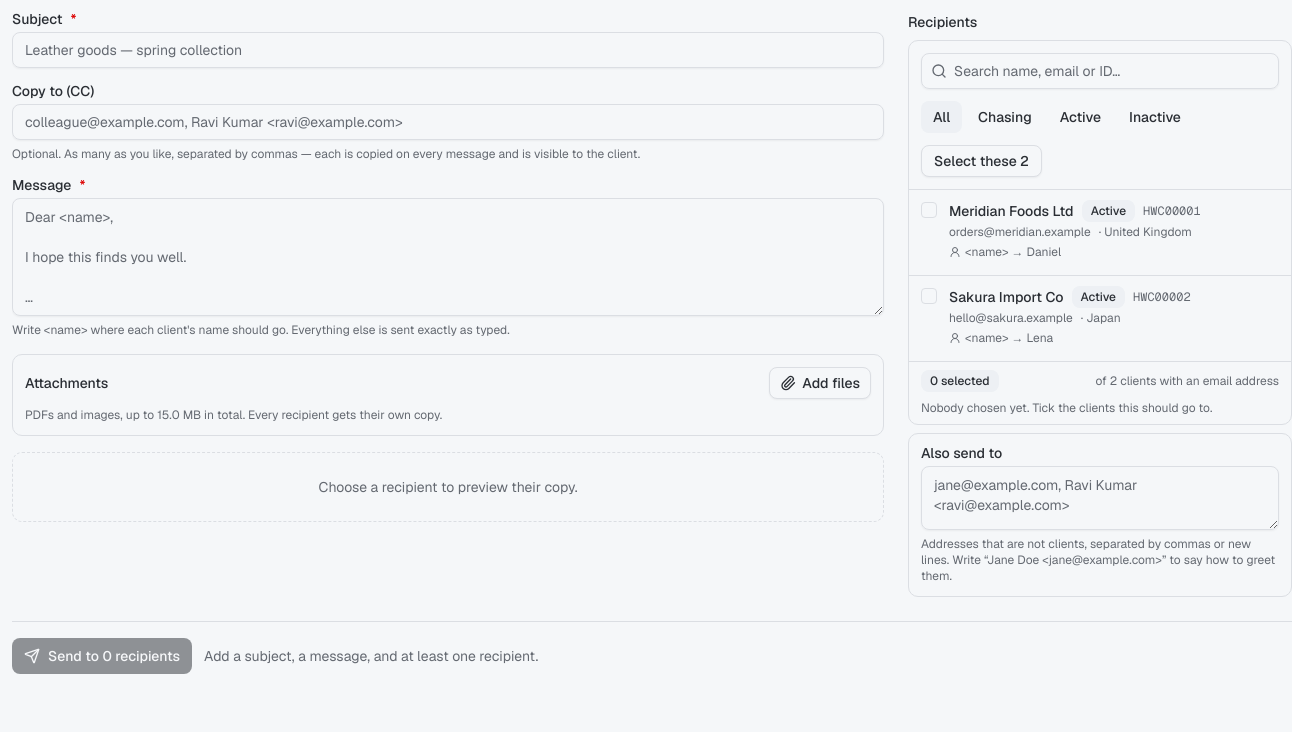
cc › spells out the total when several people are copied
In the field labelled "Subject *": (448,50) [12,32,884,68], type "Spring range"
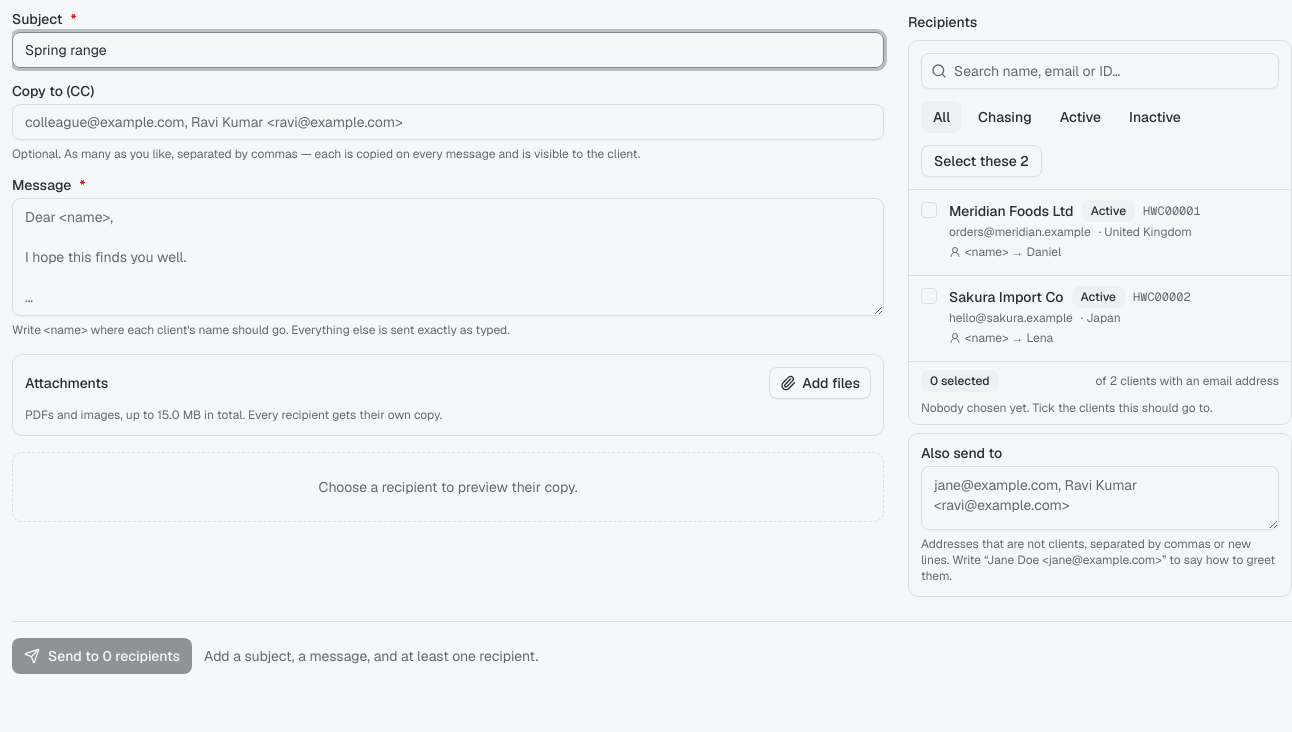
In the text box labelled "Message *": (448,257) [12,198,884,316], type "Dear <name>,"
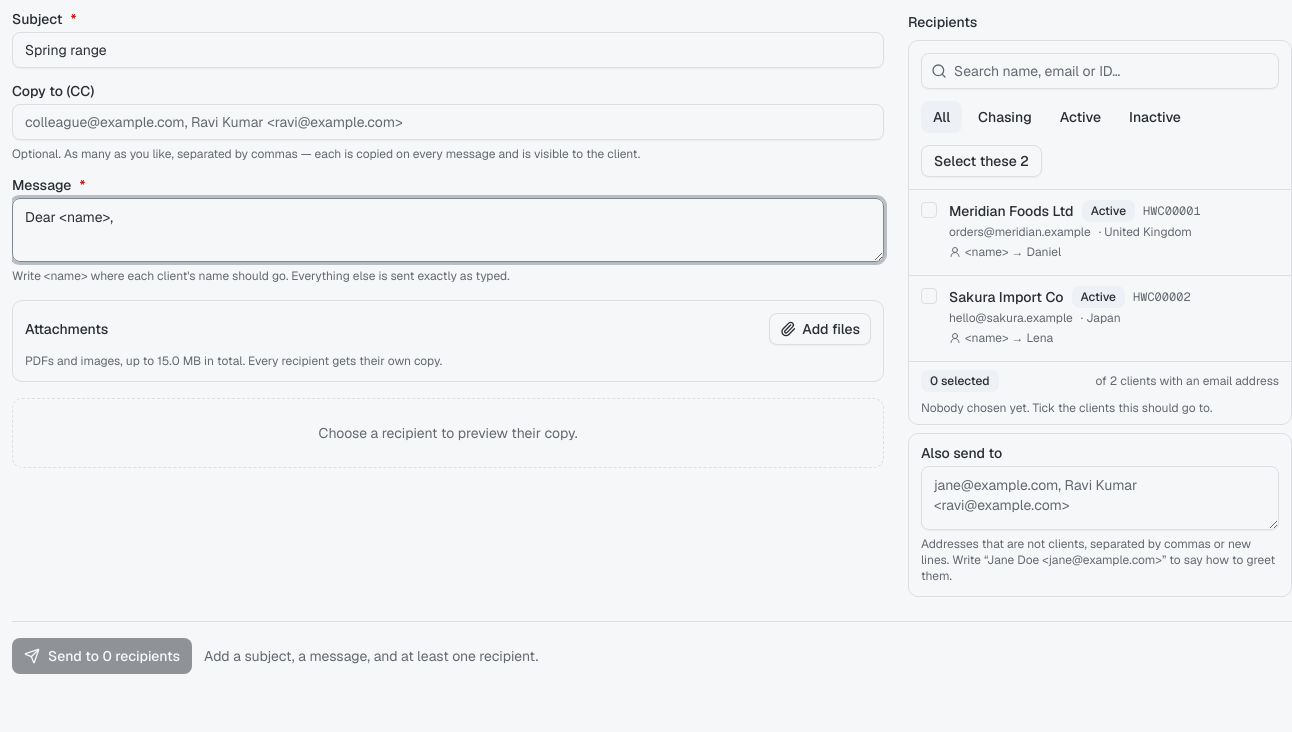
Click the checkbox named "Write to Meridian Foods Ltd": (929,210) [921,202,937,218]
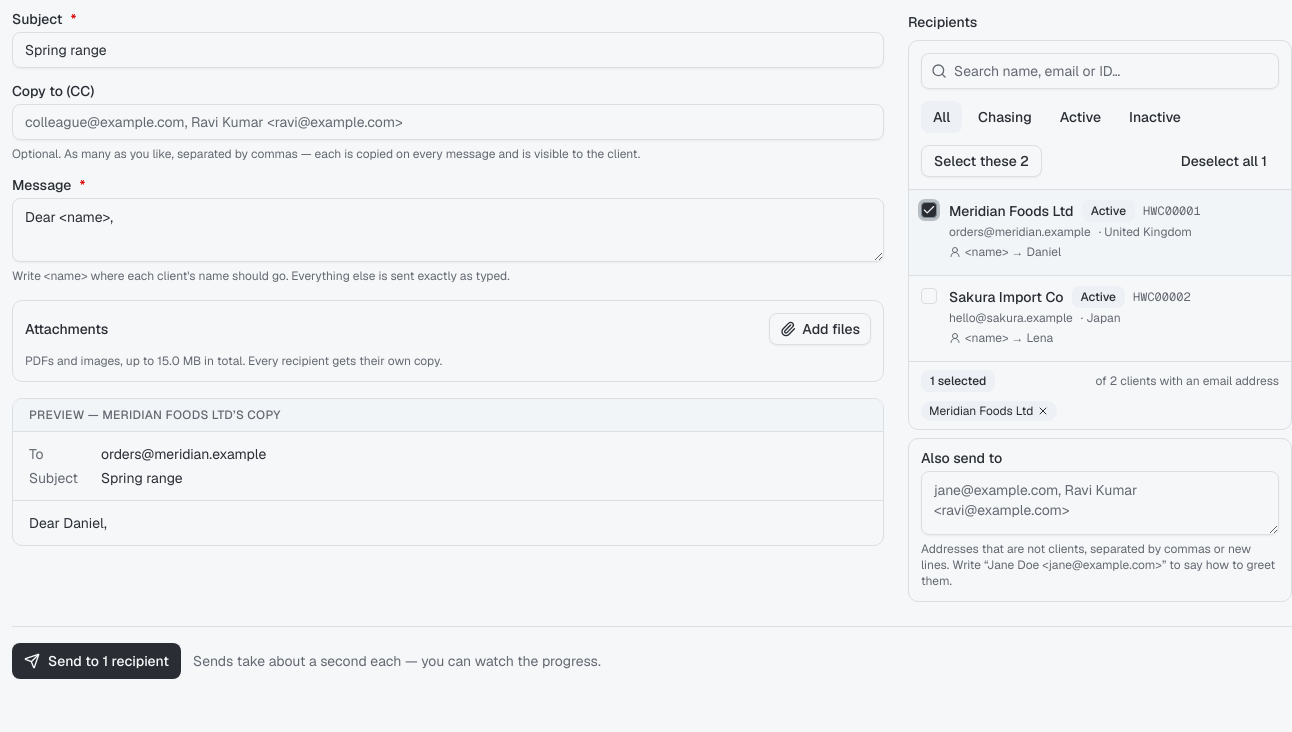
Click the checkbox named "Write to Sakura Import Co": (929,296) [921,288,937,304]
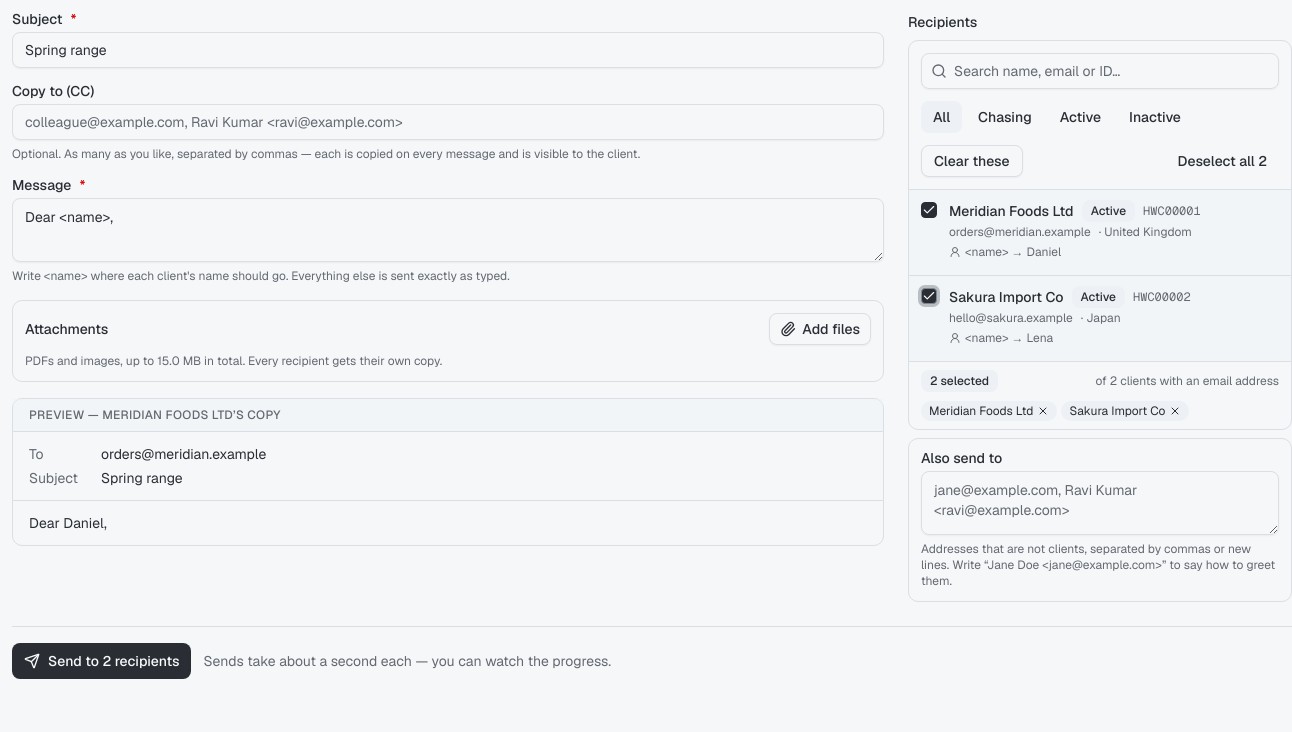
In the field labelled "Copy to (CC)": (448,122) [12,104,884,140], type "a@example.com, b@example.com"
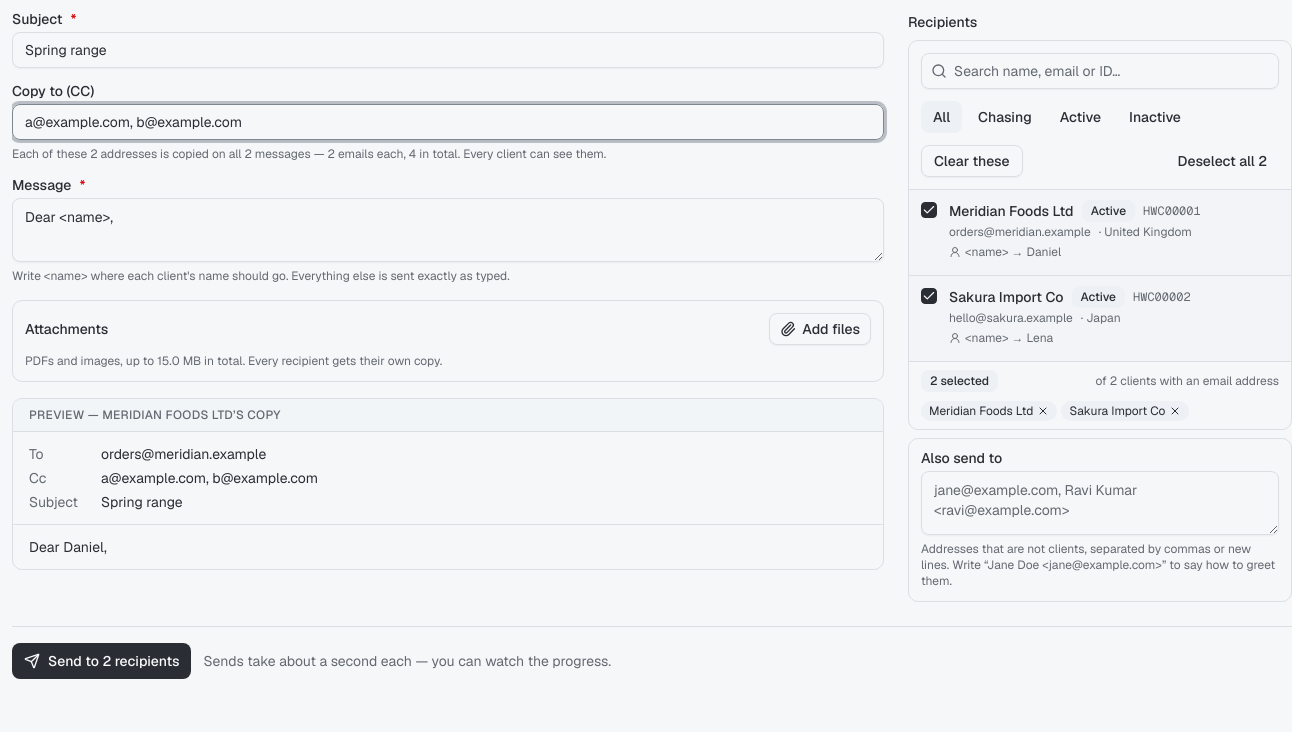
Result: the text "4 in total" is shown at [12,146,606,162]
